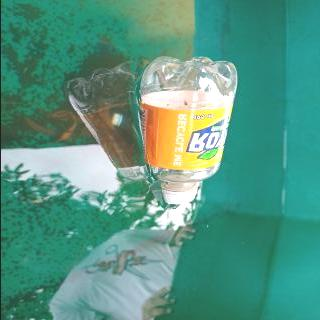bottle: (134, 55, 239, 205)
